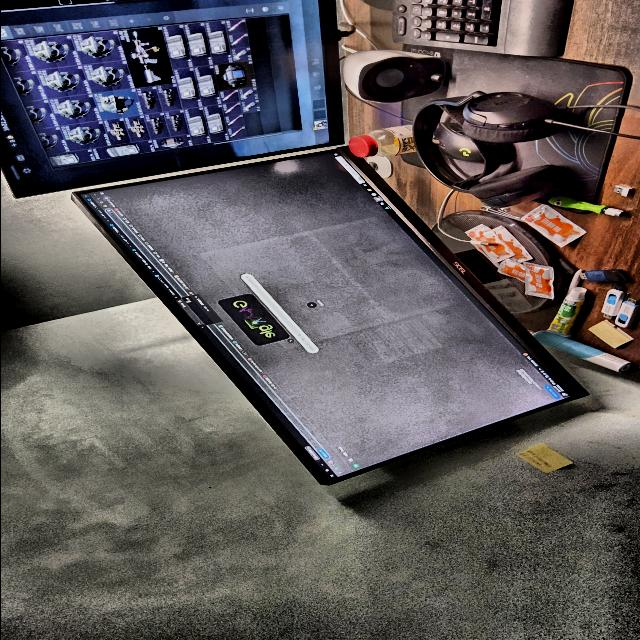Keyboard: (390, 0, 567, 57)
MOUSE: (432, 122, 483, 164)
Screen: (72, 147, 587, 485), (0, 0, 342, 198)
